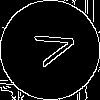V: (25, 25, 78, 70)
